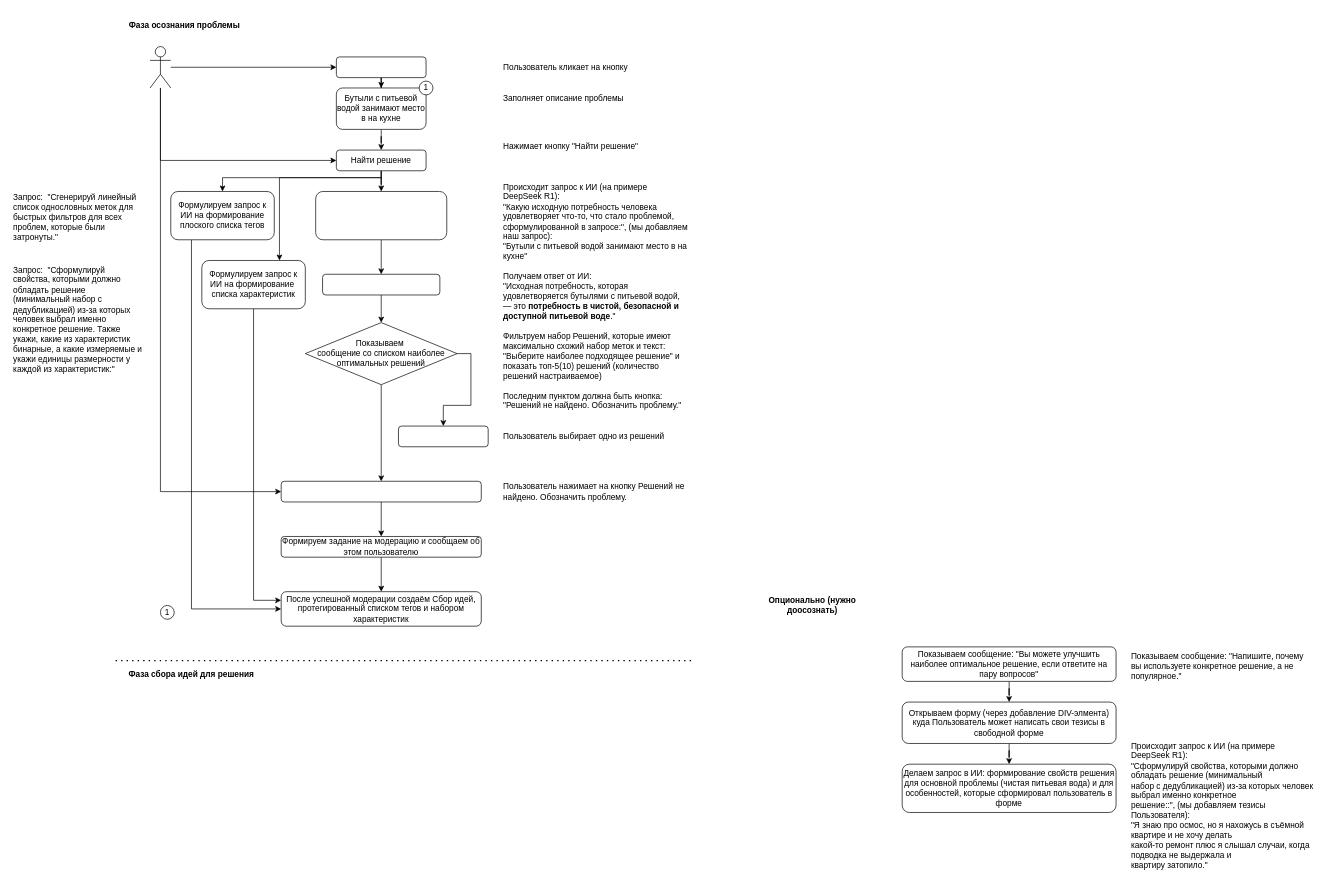
Some shapes in this 1328 by 893 pixel diagram are drawn without their labels. The centre of each missing label's shape, as x and y in pixels:
Осознать проблему: the point at 381,67
Получаем ответ от ИИ: the point at 381,284
Пользователь: the point at 160,67
Решение найдено: the point at 443,436
Решений не найдено. Обозначить проблему.: the point at 380,491
Формулируем запрос к ИИ на определение исходной проблемы: the point at 381,215
